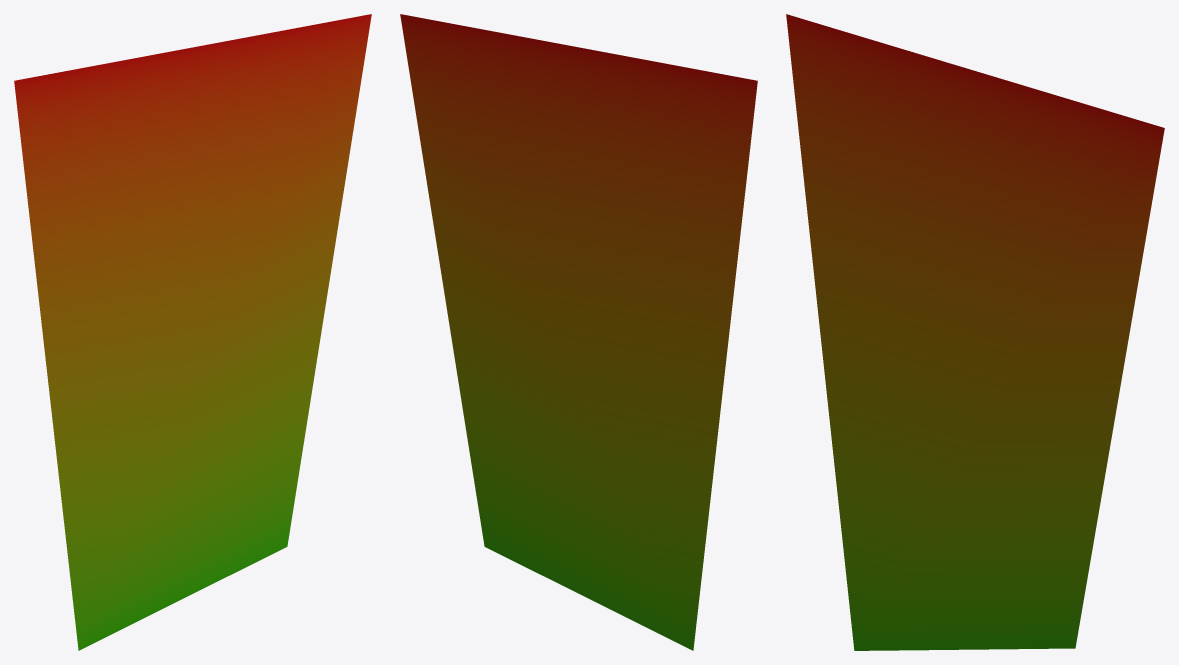
File: Spotted Laurel_LOD3_Var4_sfDik.fbx
3 renders of one model, left to right at view 1: azimuth 30°, elevation 25°; view 2: azimuth 150°, elevation 25°; view 3: azimuth 330°, elevation 25°, orthographic. The views are drawn at different scales.
Visible parts, largest first — view 1: _8870_Var4_LOD3; view 2: _8870_Var4_LOD3; view 3: _8870_Var4_LOD3.
Boxes of the visible parts, x1=… form: _8870_Var4_LOD3: x1=14, y1=14, x2=371, y2=650; _8870_Var4_LOD3: x1=400, y1=14, x2=757, y2=650; _8870_Var4_LOD3: x1=786, y1=14, x2=1164, y2=650.
Size of the model in its own units: 40.73 by 63.74 by 2.38e-06.
